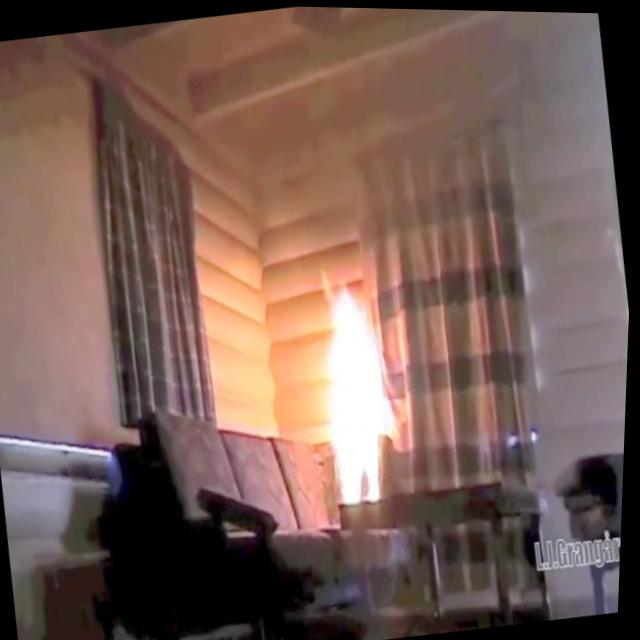fire: (306, 254, 422, 522)
